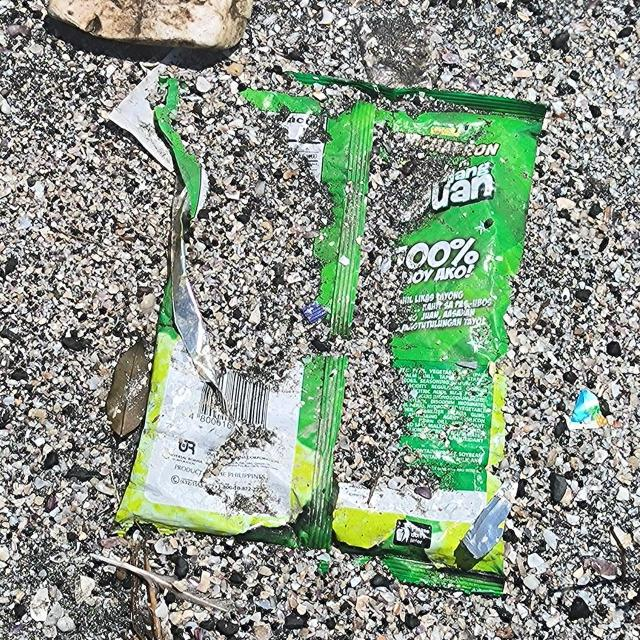plastic_waste: (115, 76, 548, 598), (568, 390, 611, 433)
